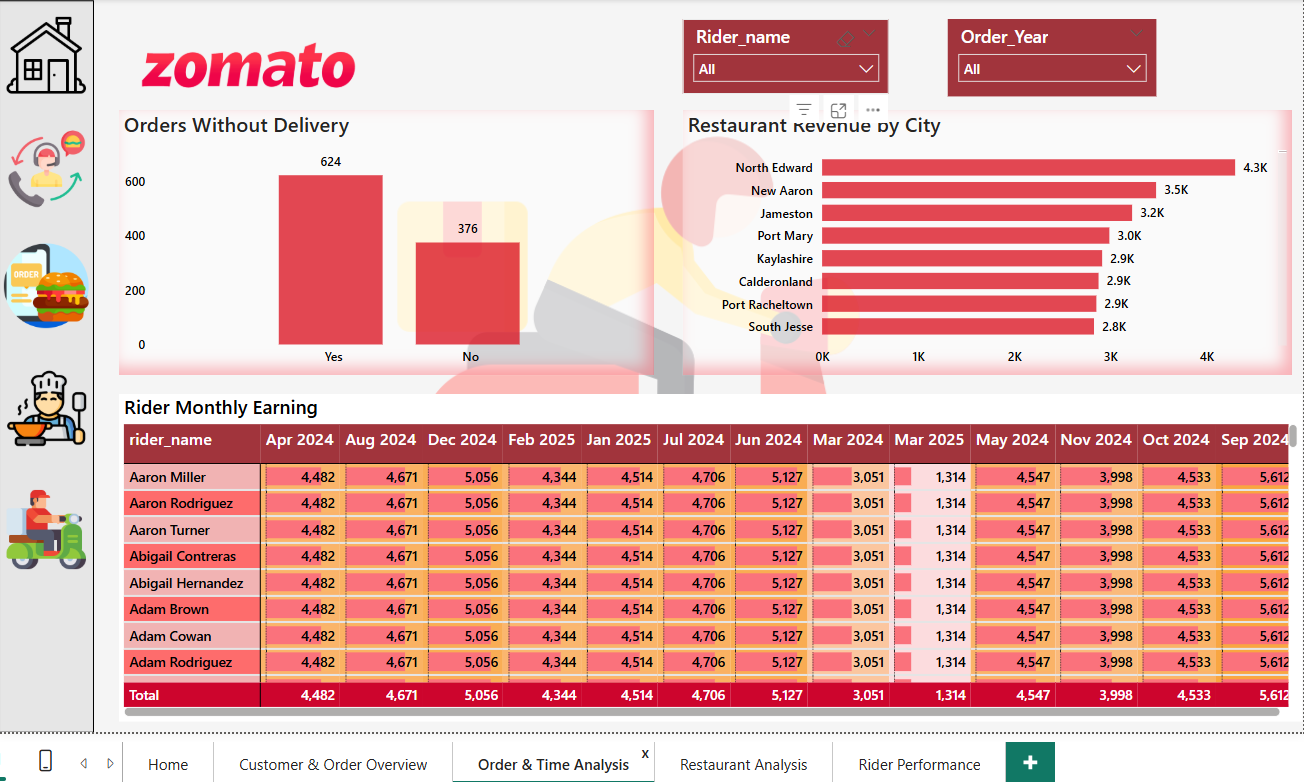

Layout of this report page (visuals, bound fields, positions):
{"tool":"powerbi","page":{"name":"Order & Time Analysis","canvas":[1280,720],"ordinal":2},"visuals":[{"type":"image","box":[58.9,0,371.8,130.1],"z":0},{"type":"shape","box":[0,1,93.3,719],"z":1000},{"type":"columnChart","title":"Orders Without Delivery","fields":{"Category":["ORDERS.Has_delivery"],"Y":["ORDERS.order_id"]},"box":[117.8,109.2,525.2,260.1],"z":2000},{"type":"clusteredBarChart","title":"Restaurant Revenue by City","fields":{"Category":["RESTAURANTS.city"],"Y":["ORDERS.total_amount"]},"box":[671.2,109.2,597.5,260.1],"z":3000},{"type":"pivotTable","title":"Rider Monthly Earning","fields":{"Rows":["RIDERS.rider_name"],"Columns":["ORDERS.Order Month"],"Values":["RIDERS.Rider_Earnings"]},"box":[117.8,387.7,1162,321.5],"z":4000},{"type":"image","box":[0,1.2,93.3,110.4],"z":5000},{"type":"image","box":[0,471.2,93.3,99.4],"z":6000},{"type":"image","box":[0,231.9,93.3,99.4],"z":7000},{"type":"image","box":[0,121.5,93.3,90.8],"z":8000},{"type":"image","box":[0,358.3,93.3,87.1],"z":9000},{"type":"slicer","fields":{"Values":["RIDERS.rider_name"]},"box":[671.2,19.6,202.5,73.6],"z":10000},{"type":"slicer","fields":{"Values":["ORDERS.Order_Year"]},"box":[931.3,19.6,204.9,76.1],"z":11000}]}

Visuals, with their boxes on the page's 1280x720 design canvas (x1, y1, x2, y2). These are canvas units, not pixel positions in the 1304x782 screenshot, which may show the page scaled, cropped or inside an application window:
image: BBox(59, 0, 431, 130)
shape: BBox(0, 1, 93, 720)
"Orders Without Delivery" columnChart: BBox(118, 109, 643, 369)
"Restaurant Revenue by City" clusteredBarChart: BBox(671, 109, 1269, 369)
"Rider Monthly Earning" pivotTable: BBox(118, 388, 1280, 709)
image: BBox(0, 1, 93, 112)
image: BBox(0, 471, 93, 571)
image: BBox(0, 232, 93, 331)
image: BBox(0, 122, 93, 212)
image: BBox(0, 358, 93, 445)
slicer - RIDERS.rider_name: BBox(671, 20, 874, 93)
slicer - ORDERS.Order_Year: BBox(931, 20, 1136, 96)
